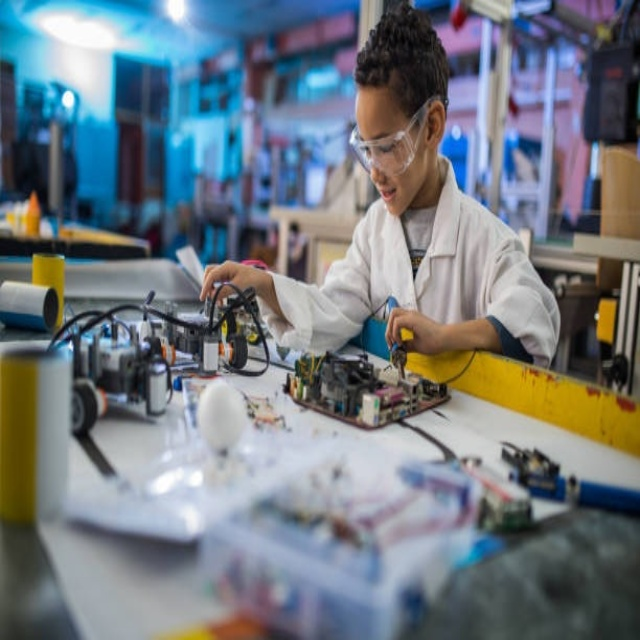Gafas: (348, 95, 437, 178)
Sin_guantes: (381, 300, 444, 355), (202, 251, 258, 301)
Sin_mascara: (373, 180, 407, 213)
